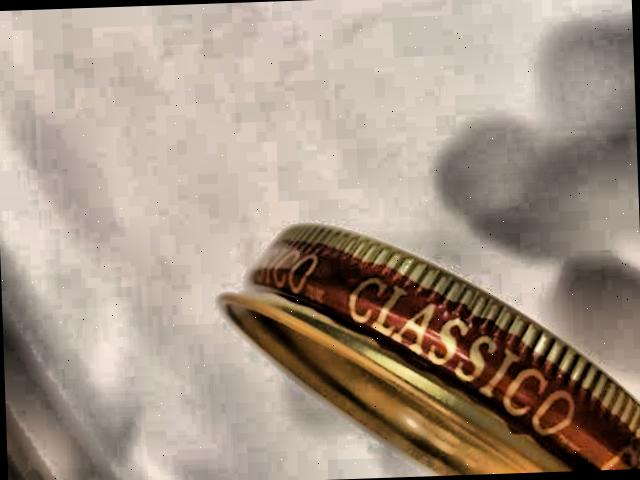Almennt: (227, 189, 640, 480)
